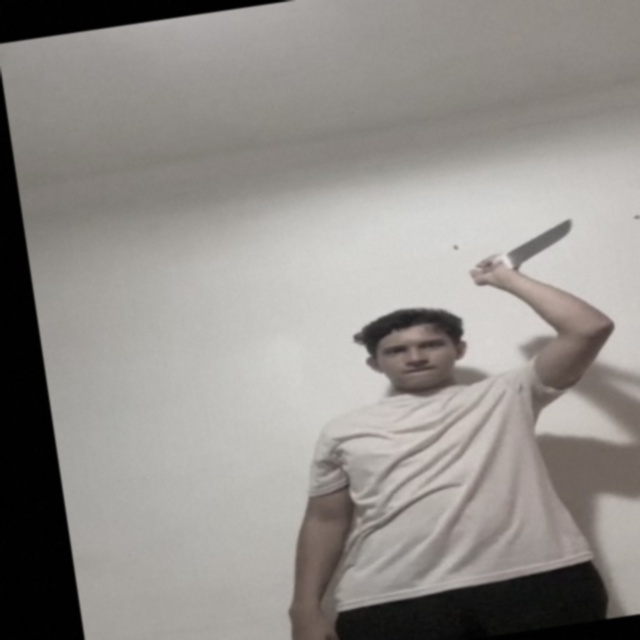Sharp-Object: (495, 217, 586, 267)
